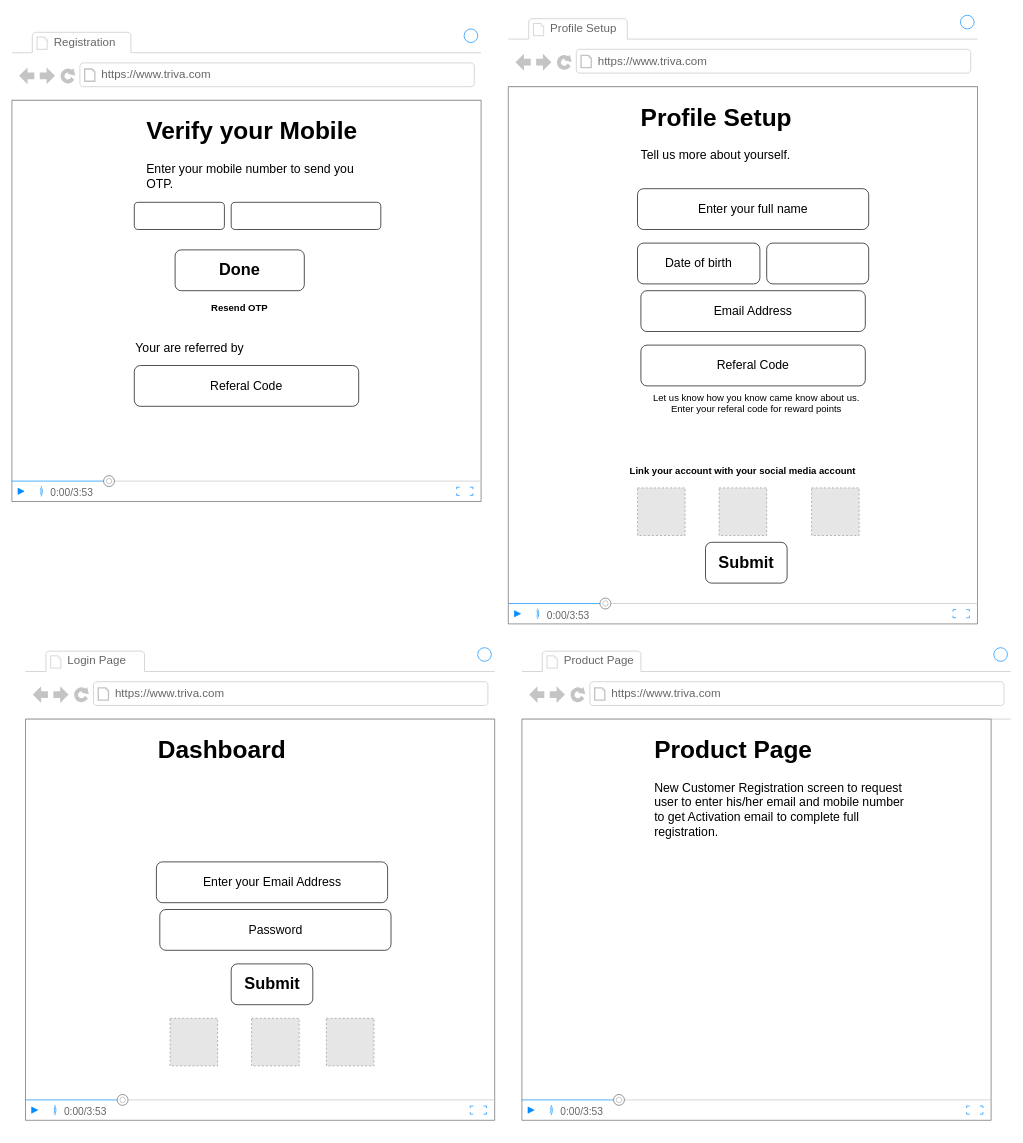
This 1023x1143 diagram has some shape labels left out. Grey dashed boxes stand in for pictures. The shapes that lost their labels are listed below. From the top down, each one's box as (x1, y1, x2, y2) in pixels, then its label:
(134, 202, 224, 230): Country Code
(231, 202, 381, 230): Enter your Mobile Number
(766, 242, 869, 284): Gender
